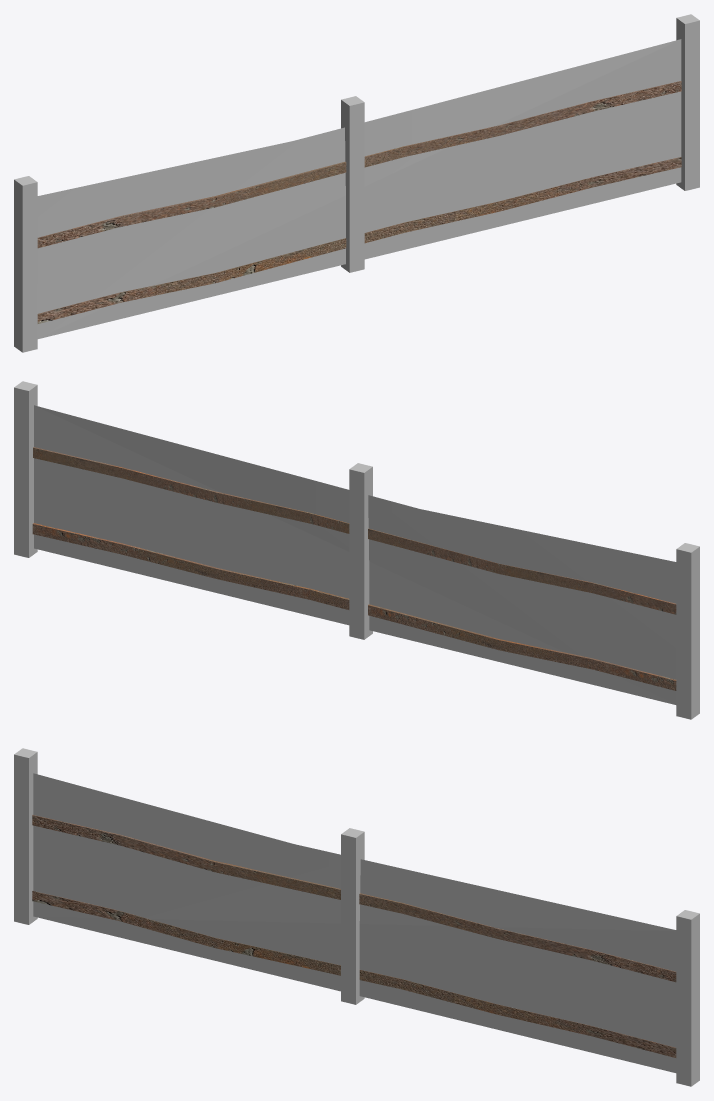
Rendered from fence1_wire.fbx.
3 views of the same model, one above another, from view 1: azimuth 30°, elevation 25°; view 2: azimuth 150°, elevation 25°; view 3: azimuth 330°, elevation 25° (orthographic).
Visible parts, largest first — view 1: Mesh Object; view 2: Mesh Object; view 3: Mesh Object.
Part boxes in pixels (x1,y1,x2,y2): Mesh Object: (14,14,699,352); Mesh Object: (14,381,699,719); Mesh Object: (14,748,699,1086).
Size of the model in its own units: 10.65 by 2.51 by 0.2355.
